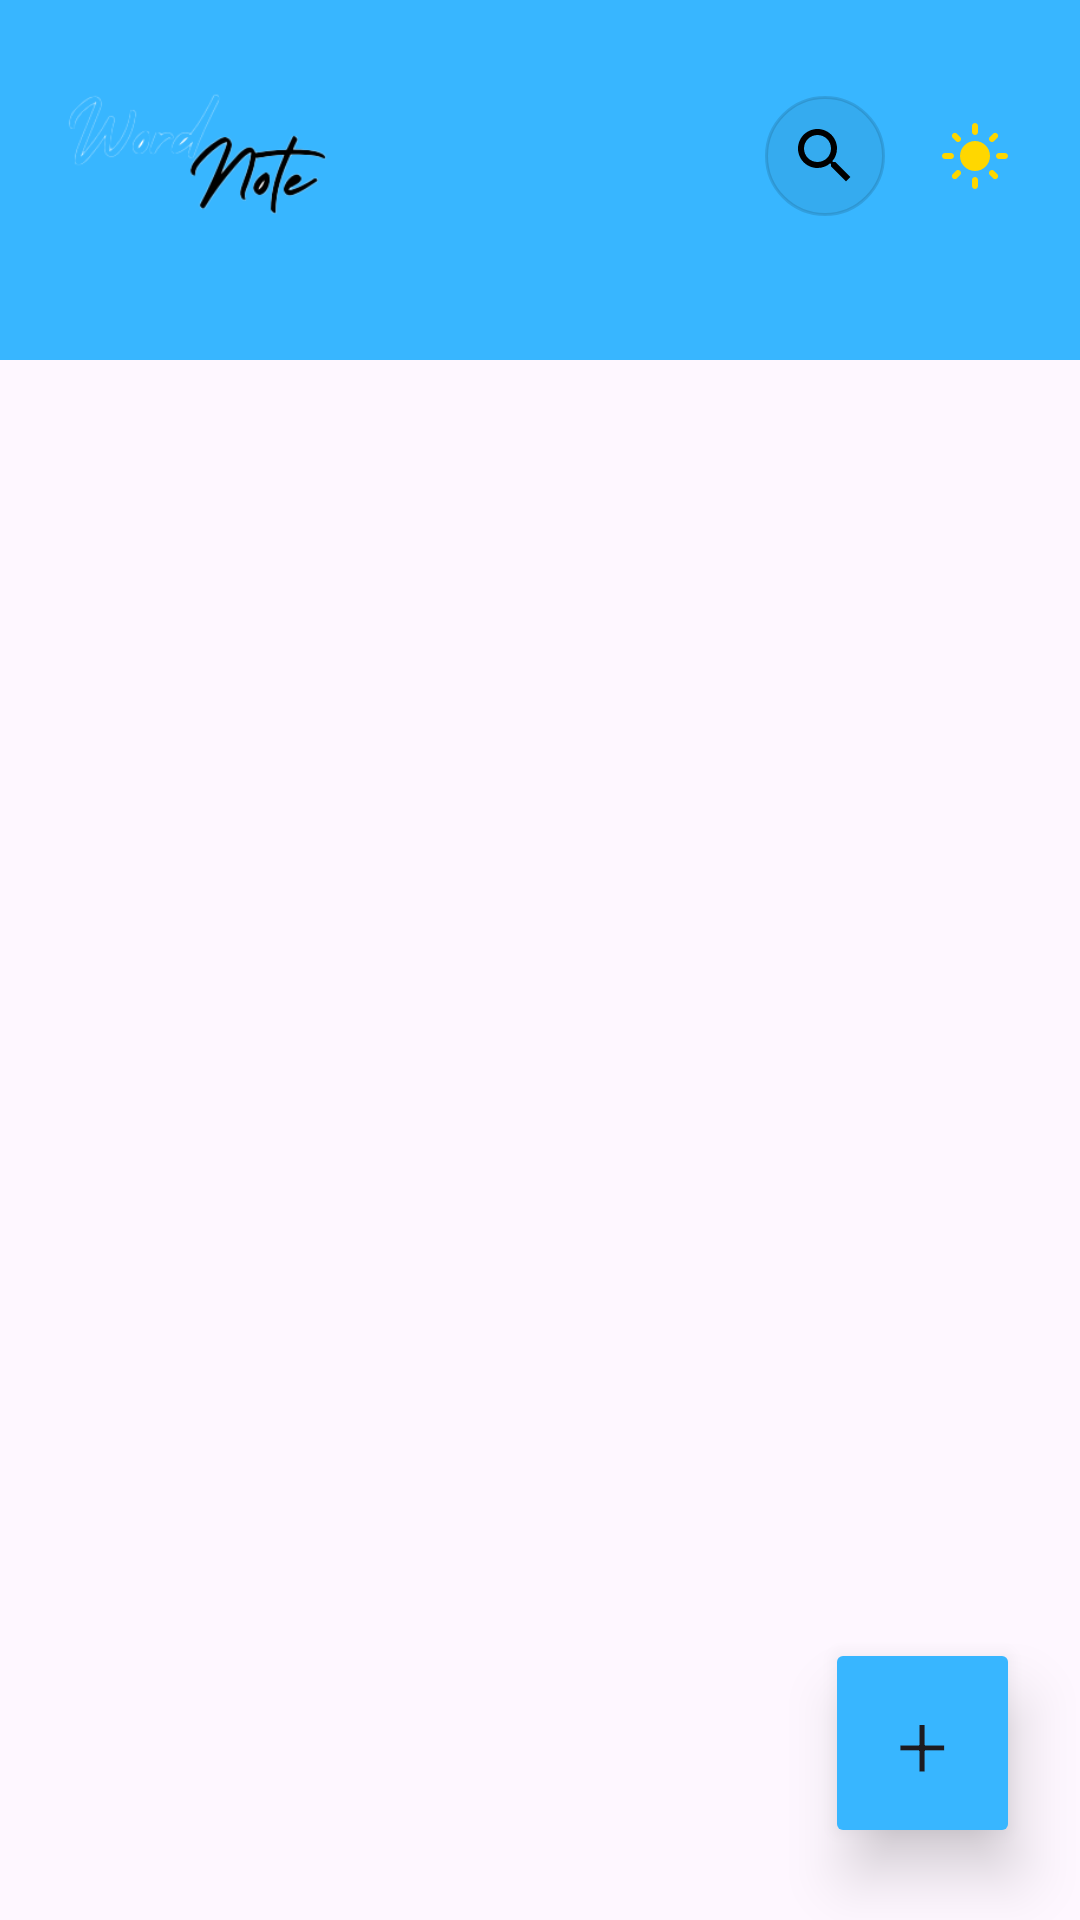

Icons on this 1080px×1920px Android screen, each with the point to tap as (x=x, y=y):
Search: (x=825, y=156)
Toggle Theme: (x=975, y=156)
